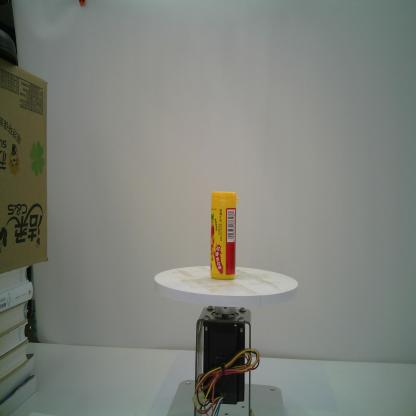Candy: (209, 190, 240, 281)
